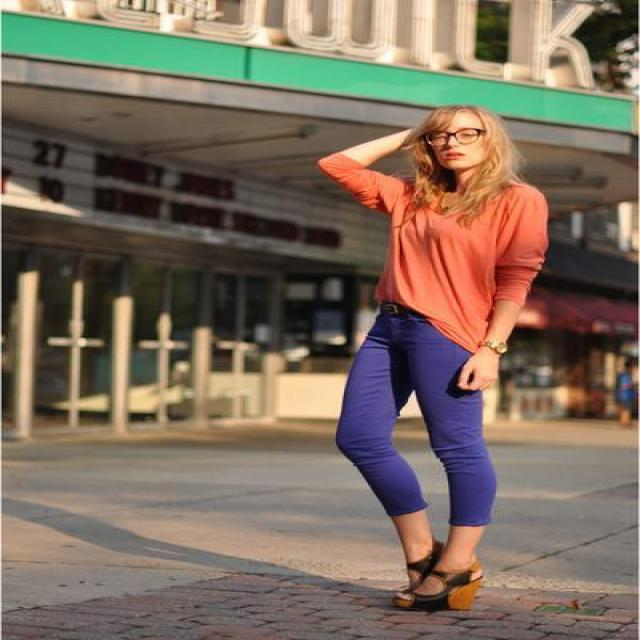pants: (336, 302, 494, 526)
shirt: (318, 153, 548, 344)
shoe: (403, 550, 482, 614)
